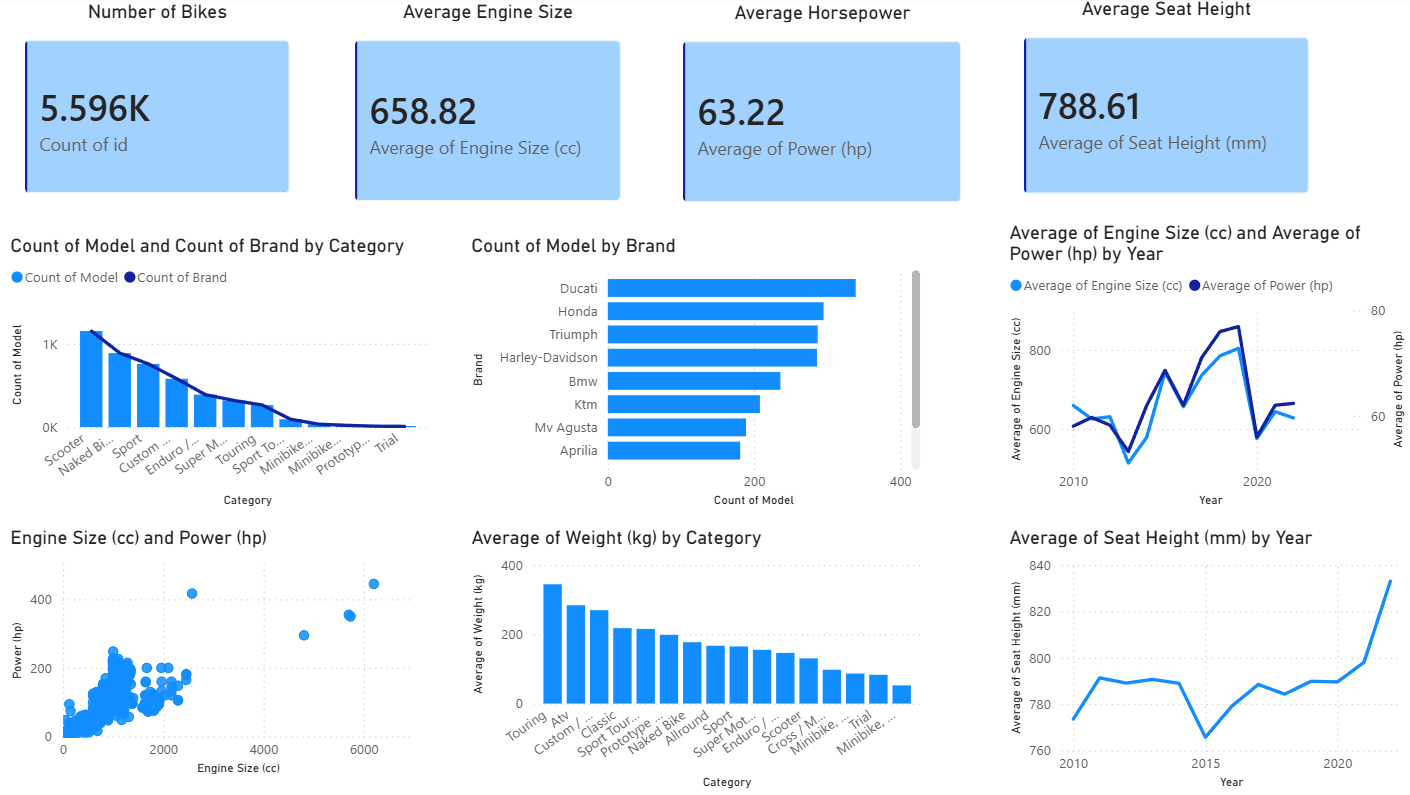

This screenshot's page, from the dashboard's own definition file:
{"tool":"powerbi","page":{"name":"Page 1","canvas":[1280,720],"ordinal":0},"visuals":[{"type":"clusteredBarChart","fields":{"Category":["motorcycles_clean.Brand"],"Y":["CountNonNull(motorcycles_clean.Model)"]},"box":[434.3,212.2,411.9,249],"z":0},{"type":"lineClusteredColumnComboChart","fields":{"Category":["motorcycles_clean.Category"],"Y":["CountNonNull(motorcycles_clean.Model)"],"Y2":["CountNonNull(motorcycles_clean.Brand)"]},"box":[21.5,212.2,383.3,249],"z":1000},{"type":"cardVisual","title":"Average Engine Size","fields":{"Data":["Avg(motorcycles_clean.Engine Size (cc))"]},"box":[317.9,2.7,272.2,197.9],"z":2000},{"type":"cardVisual","title":"Average Horsepower","fields":{"Data":["Avg(motorcycles_clean.Power (hp))"]},"box":[611.6,3.6,283.9,197],"z":3000},{"type":"cardVisual","title":"Number of Bikes","fields":{"Data":["CountNonNull(motorcycles_clean.id)"]},"box":[22.4,2.7,271.3,190.7],"z":4000},{"type":"lineChart","fields":{"Y":["Avg(motorcycles_clean.Engine Size (cc))"],"Category":["motorcycles_clean.Year"],"Y2":["Avg(motorcycles_clean.Power (hp))"]},"box":[916.1,200.6,363.6,260.6],"z":5000},{"type":"scatterChart","fields":{"X":["motorcycles_clean.Engine Size (cc)"],"Y":["motorcycles_clean.Power (hp)"]},"box":[21.5,473.7,384.2,227.5],"z":6000},{"type":"cardVisual","title":"Average Seat Height","fields":{"Data":["Avg(motorcycles_clean.Seat Height (mm))"]},"box":[917.1,0,289.3,193.7],"z":7000},{"type":"clusteredColumnChart","fields":{"Category":["motorcycles_clean.Category"],"Y":["Avg(motorcycles_clean.Weight (kg))"]},"box":[434.3,473.7,411.9,240],"z":8000},{"type":"lineChart","fields":{"Category":["motorcycles_clean.Year"],"Y":["Avg(motorcycles_clean.Seat Height (mm))"]},"box":[916,474,364,240],"z":8001}]}

Visuals, with their boxes in screenshot pixels (x1, y1, x2, y2), scaled from the page's 1280x720 canvas onto the 1410x795 screenshot:
clusteredBarChart - motorcycles_clean.Brand x CountNonNull(motorcycles_clean.Model): 478/234/932/509
lineClusteredColumnComboChart - motorcycles_clean.Category x CountNonNull(motorcycles_clean.Model): 24/234/446/509
"Average Engine Size" cardVisual: 350/3/650/221
"Average Horsepower" cardVisual: 674/4/986/221
"Number of Bikes" cardVisual: 25/3/324/214
lineChart - Avg(motorcycles_clean.Engine Size (cc)) x motorcycles_clean.Year: 1009/221/1409/509
scatterChart - motorcycles_clean.Engine Size (cc) x motorcycles_clean.Power (hp): 24/523/447/774
"Average Seat Height" cardVisual: 1010/0/1329/214
clusteredColumnChart - motorcycles_clean.Category x Avg(motorcycles_clean.Weight (kg)): 478/523/932/788
lineChart - motorcycles_clean.Year x Avg(motorcycles_clean.Seat Height (mm)): 1009/523/1409/788
